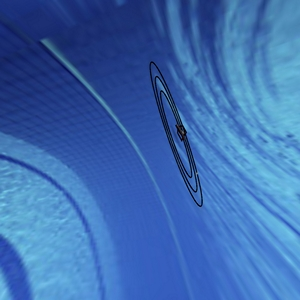circle: (123, 48, 228, 221)
submarine: (173, 120, 192, 147)
